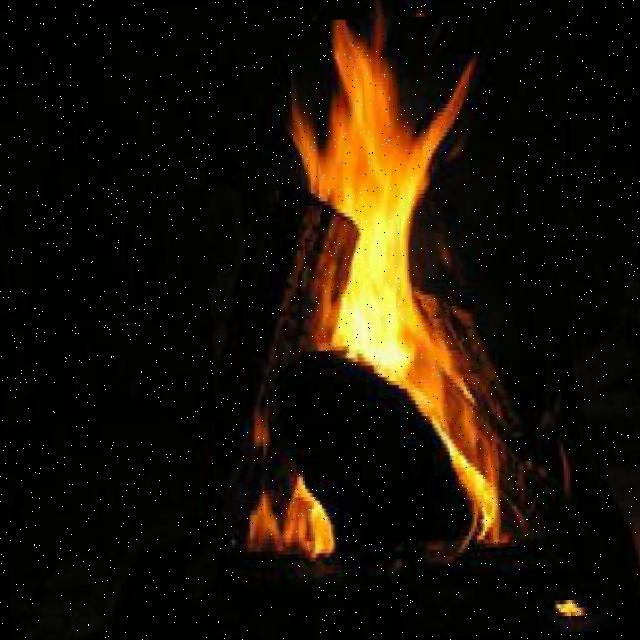fire: (200, 12, 580, 594)
